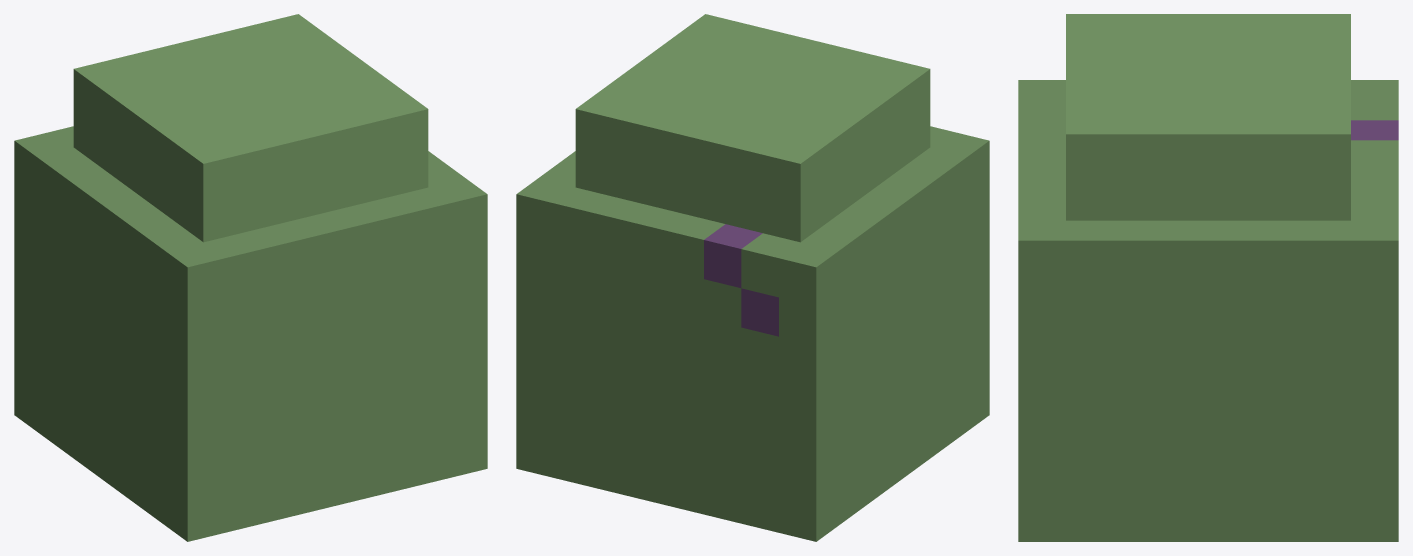
File: mora_04.glb
3 views of the same model, side by side, from view 1: azimuth 30°, elevation 25°; view 2: azimuth 150°, elevation 25°; view 3: azimuth 270°, elevation 25° (orthographic). The views are drawn at different scales.
Parts seen in each view (by area): view 1: mora_04; view 2: mora_04; view 3: mora_04.
Boxes of the visible parts, x1=… form: mora_04: x1=14, y1=14, x2=487, y2=541; mora_04: x1=516, y1=14, x2=989, y2=541; mora_04: x1=1018, y1=14, x2=1398, y2=541.
Size of the model in its own units: 0.8 by 0.9 by 0.8.
